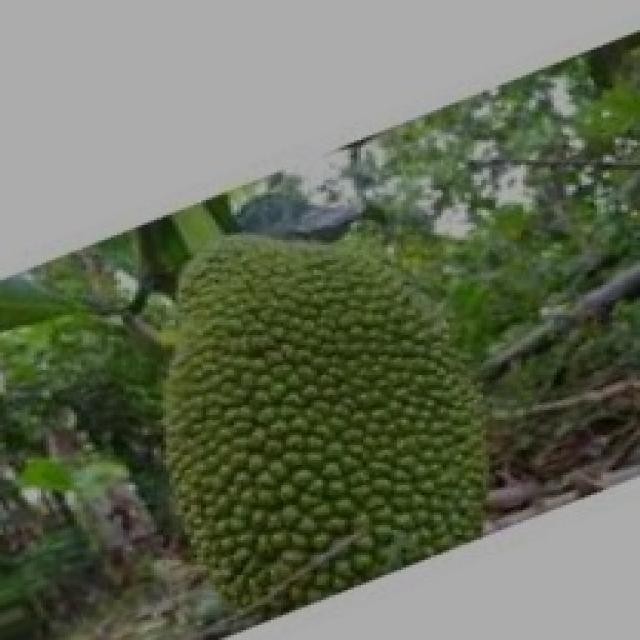Fruit: (111, 190, 532, 632)
